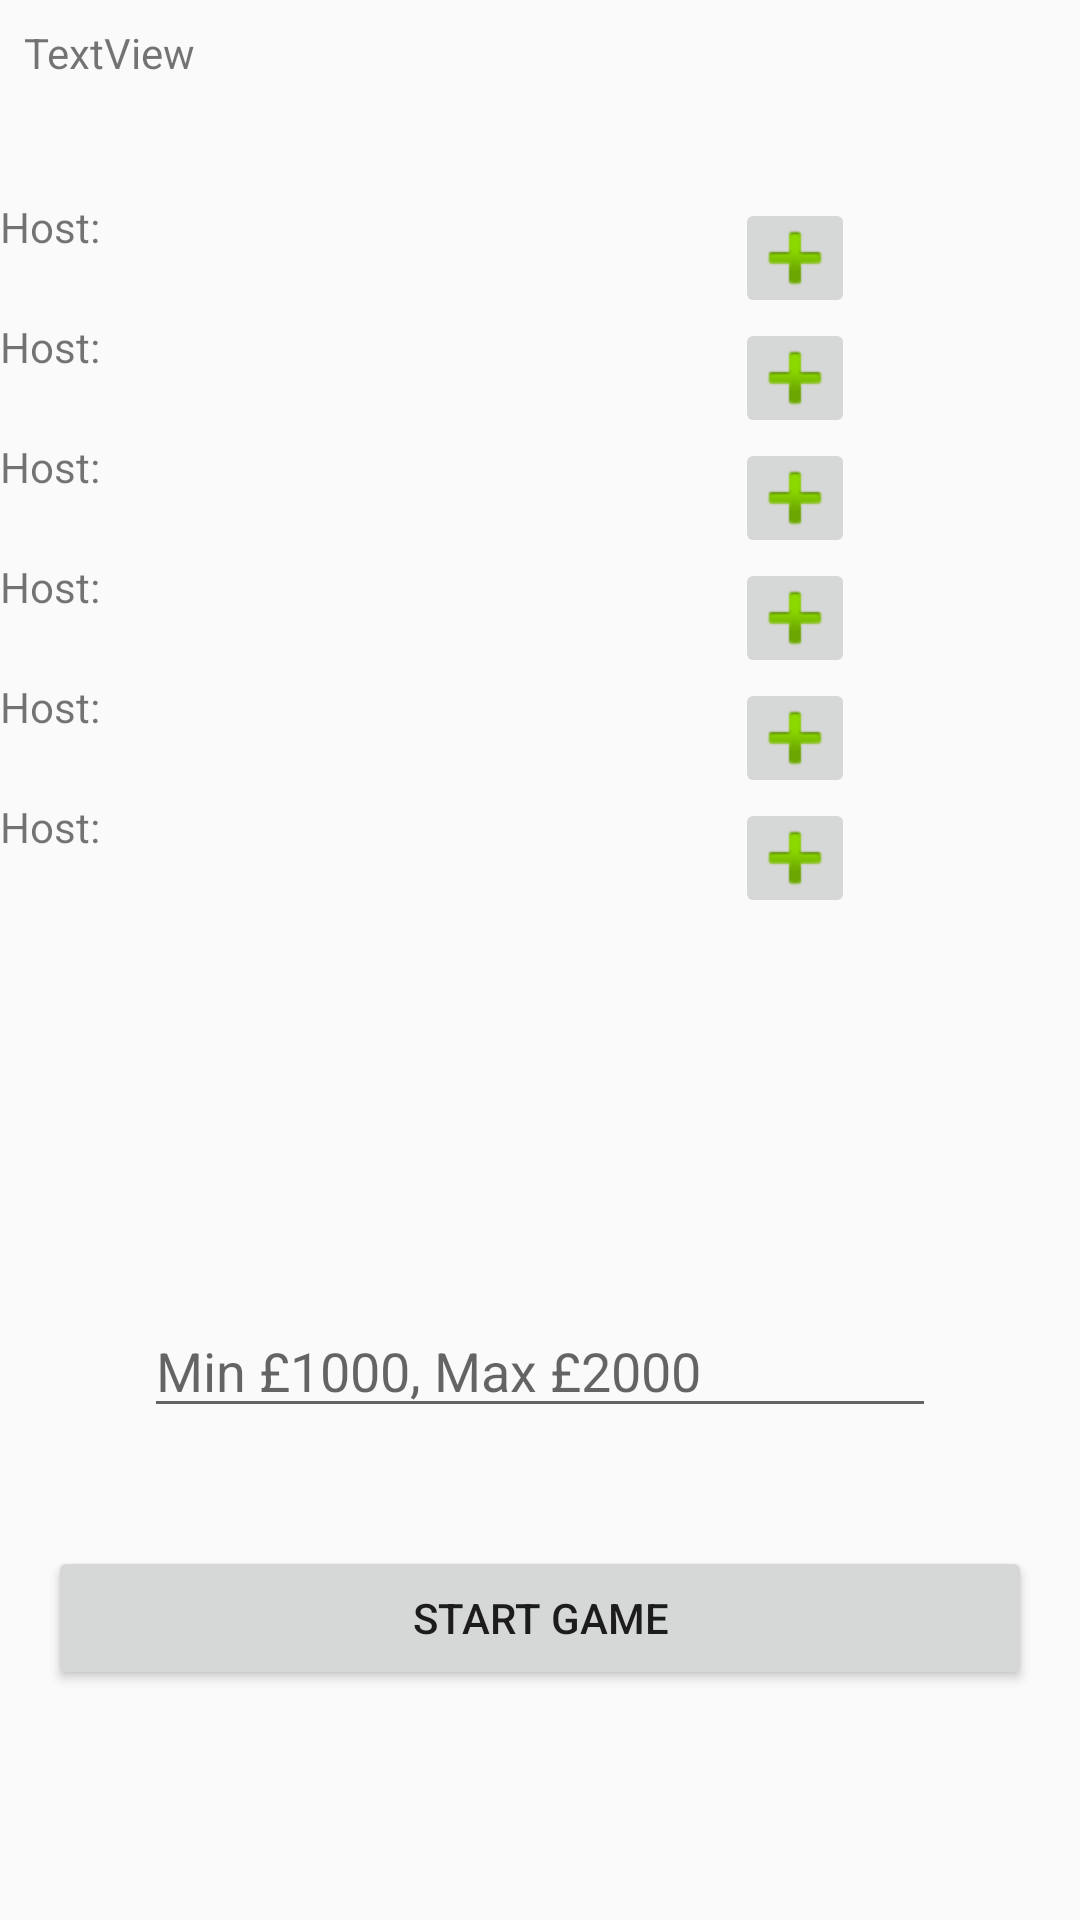

Screen size 1080*1920. Icon name, then its center in pixels as point (x, y):
add: point (795, 258), point (795, 378), point (795, 498), point (795, 618), point (795, 738), point (795, 858)
